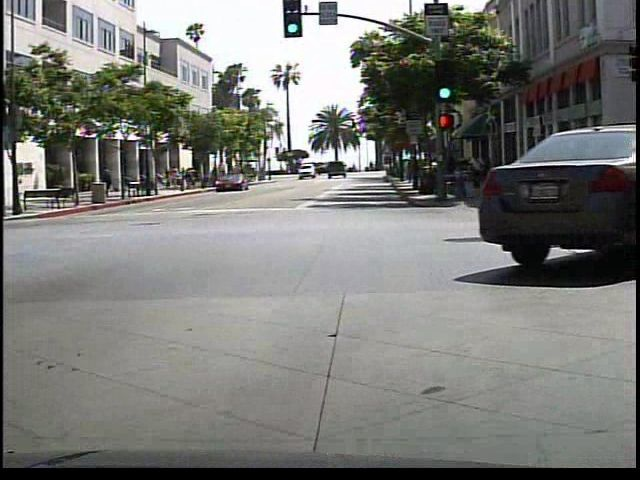person: (99, 162, 117, 198)
